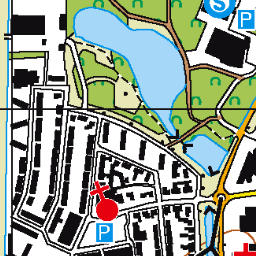church: (86, 180, 122, 223)
